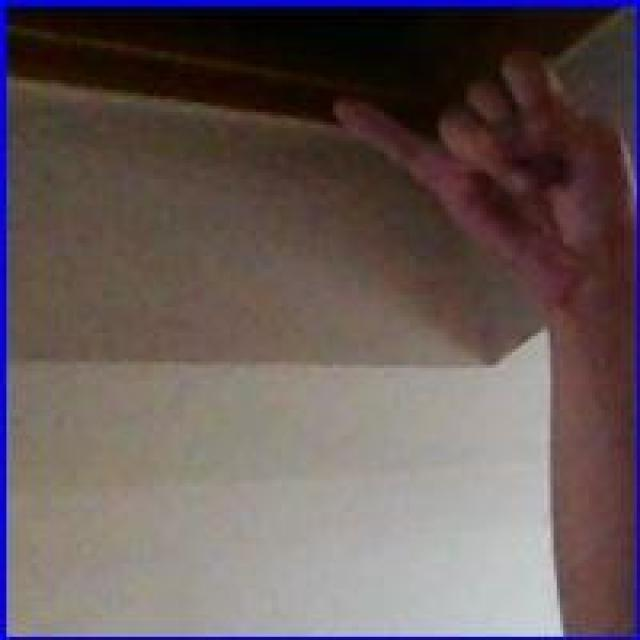J: (318, 43, 629, 299)
